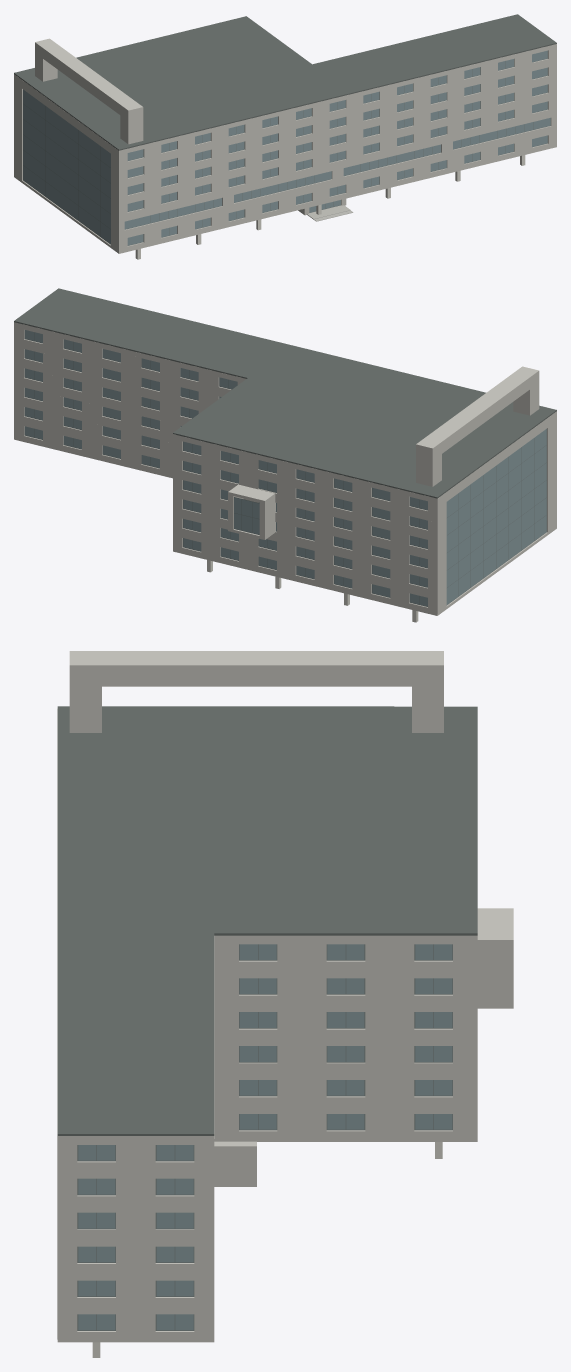
The picture shows the model from 3 angles, top to bottom: view 1: azimuth 30°, elevation 25°; view 2: azimuth 150°, elevation 25°; view 3: azimuth 270°, elevation 25°; orthographic projection. The views are drawn at different scales.
Visible parts, largest first — view 1: b470144646__stone, b470144646__roof, b470144646__glass, b470144646__frame, b470144646__columns; view 2: b470144646__stone, b470144646__roof, b470144646__glass, b470144646__frame; view 3: b470144646__roof, b470144646__stone, b470144646__glass, b470144646__frame.
Part boxes in pixels (box(x1,y1,x2,y2)): b470144646__stone: box(14, 38, 556, 253); b470144646__roof: box(14, 14, 556, 150); b470144646__glass: box(23, 50, 550, 245); b470144646__frame: box(23, 51, 550, 245); b470144646__columns: box(135, 155, 525, 259); b470144646__stone: box(14, 322, 556, 615); b470144646__roof: box(14, 288, 556, 498); b470144646__glass: box(25, 330, 546, 606); b470144646__frame: box(24, 330, 546, 606); b470144646__roof: box(57, 706, 477, 1135); b470144646__stone: box(57, 651, 513, 1342); b470144646__glass: box(78, 944, 452, 1330); b470144646__frame: box(77, 944, 452, 1330).
Bounding box in the file's own units: 94.62 × 32.4 × 42.66.
